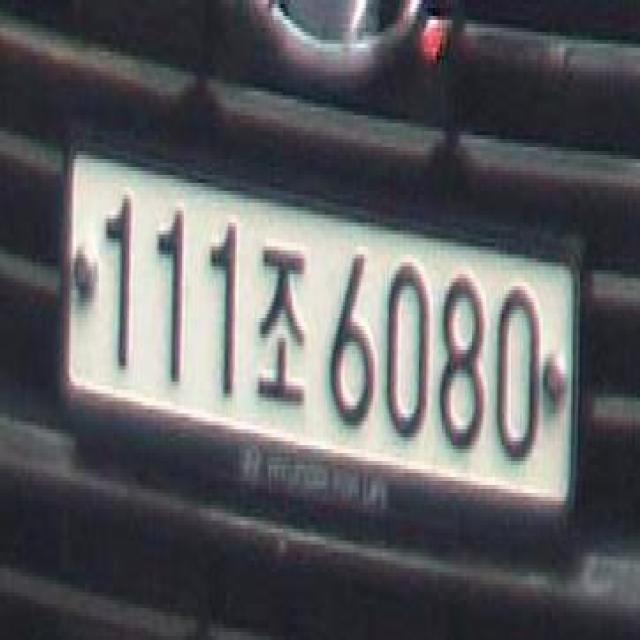illegal_plate: (53, 147, 580, 543)
